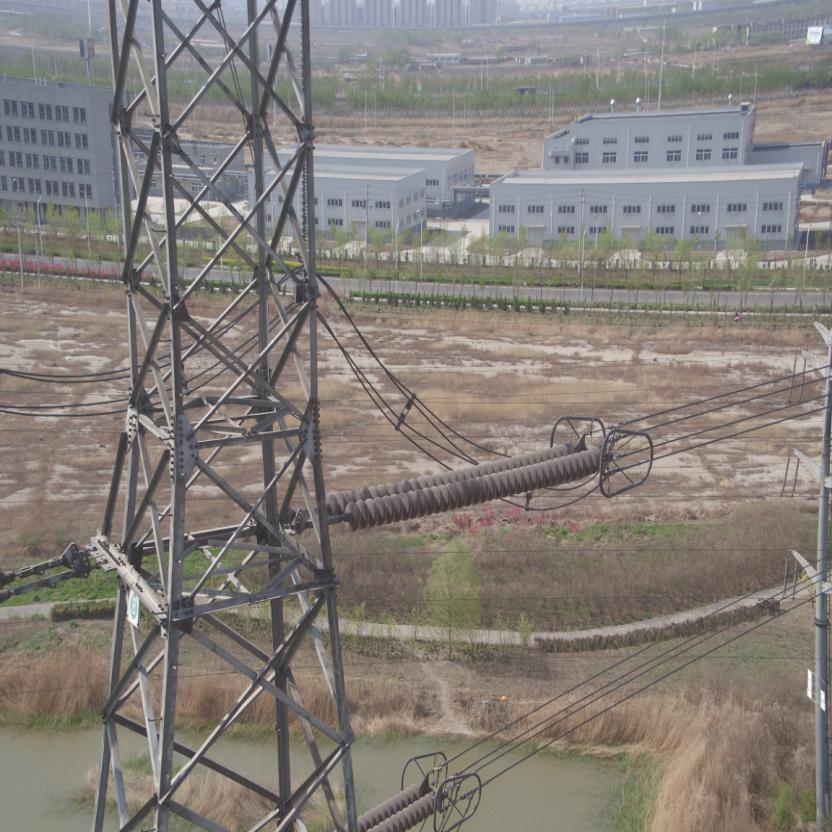insulator: (315, 436, 610, 531), (356, 779, 444, 831)
